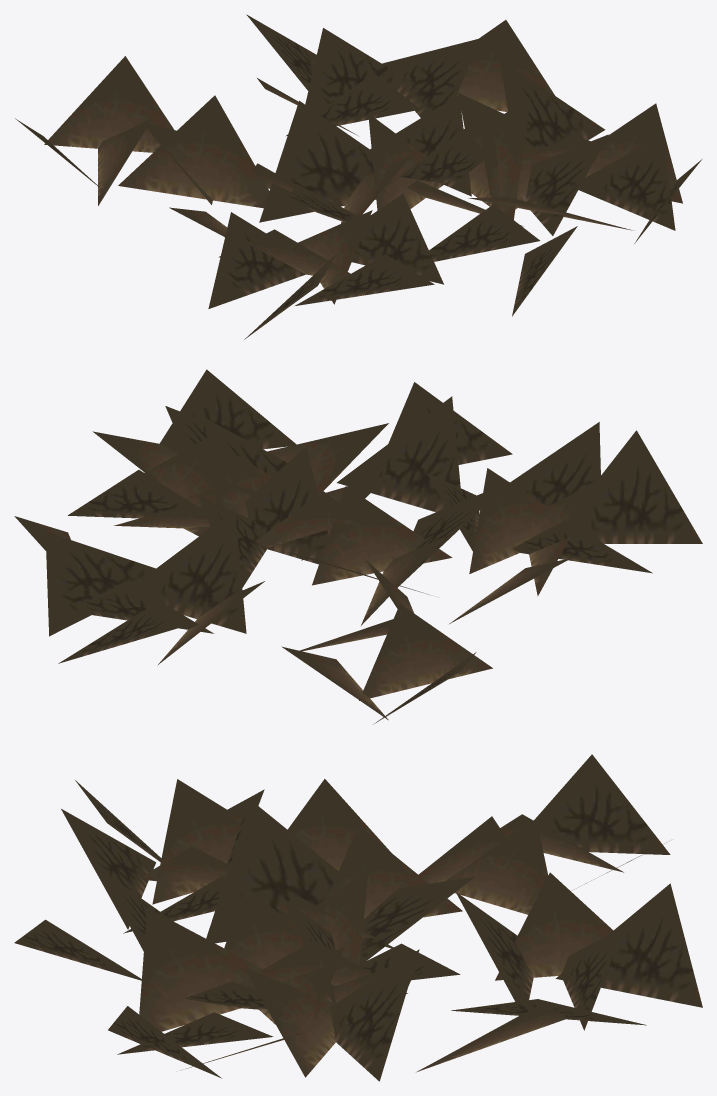
The model's file is dec_dry_grass_07_49852.glb.
3 renders of one model, top to bottom at view 1: azimuth 30°, elevation 25°; view 2: azimuth 150°, elevation 25°; view 3: azimuth 270°, elevation 25°, orthographic. The views are drawn at different scales.
Visible parts, largest first — view 1: dry_grass_07_mesh; view 2: dry_grass_07_mesh; view 3: dry_grass_07_mesh.
Boxes of the visible parts, bbox=[...] form: dry_grass_07_mesh: bbox=[15, 14, 701, 339]; dry_grass_07_mesh: bbox=[14, 369, 702, 724]; dry_grass_07_mesh: bbox=[14, 754, 702, 1081].
Size of the model in its own units: 1.86 by 0.2788 by 2.02.
Materials: 1 (1 with a texture image).
